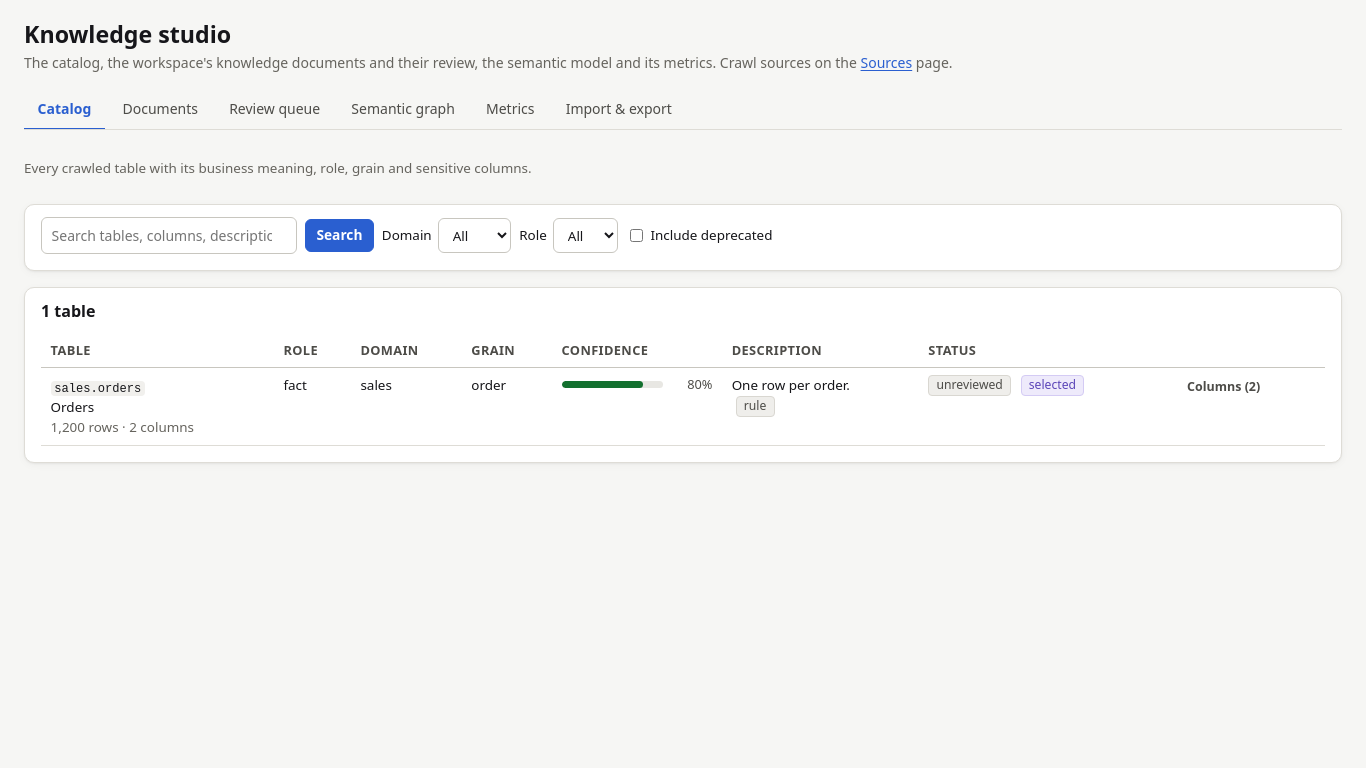
Test: CatalogPage › does not offer curation to viewers
Click the button "Columns (2)" at (1224, 387), box [1179,375,1268,400]
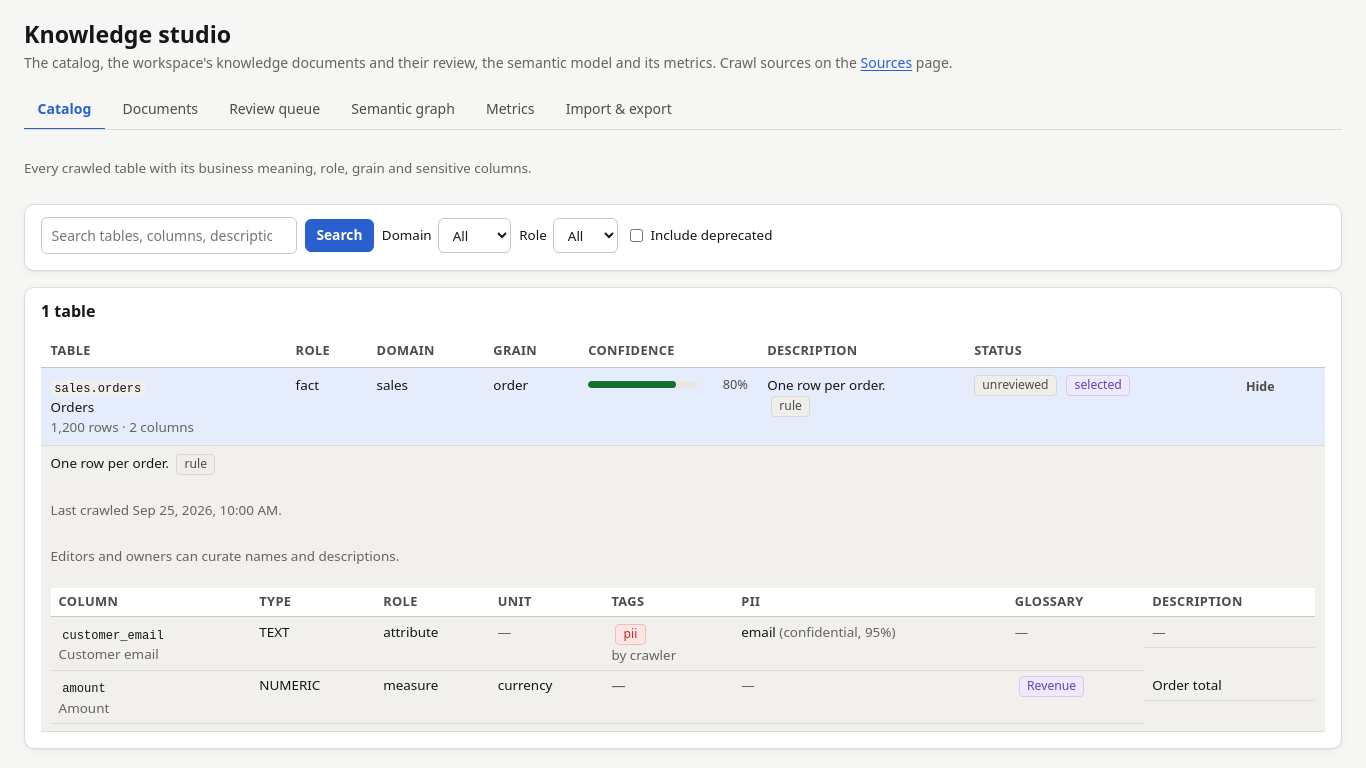
expect the text "Editors and owners can curate names and descriptions." is shown: met, box [51,547,399,565]
